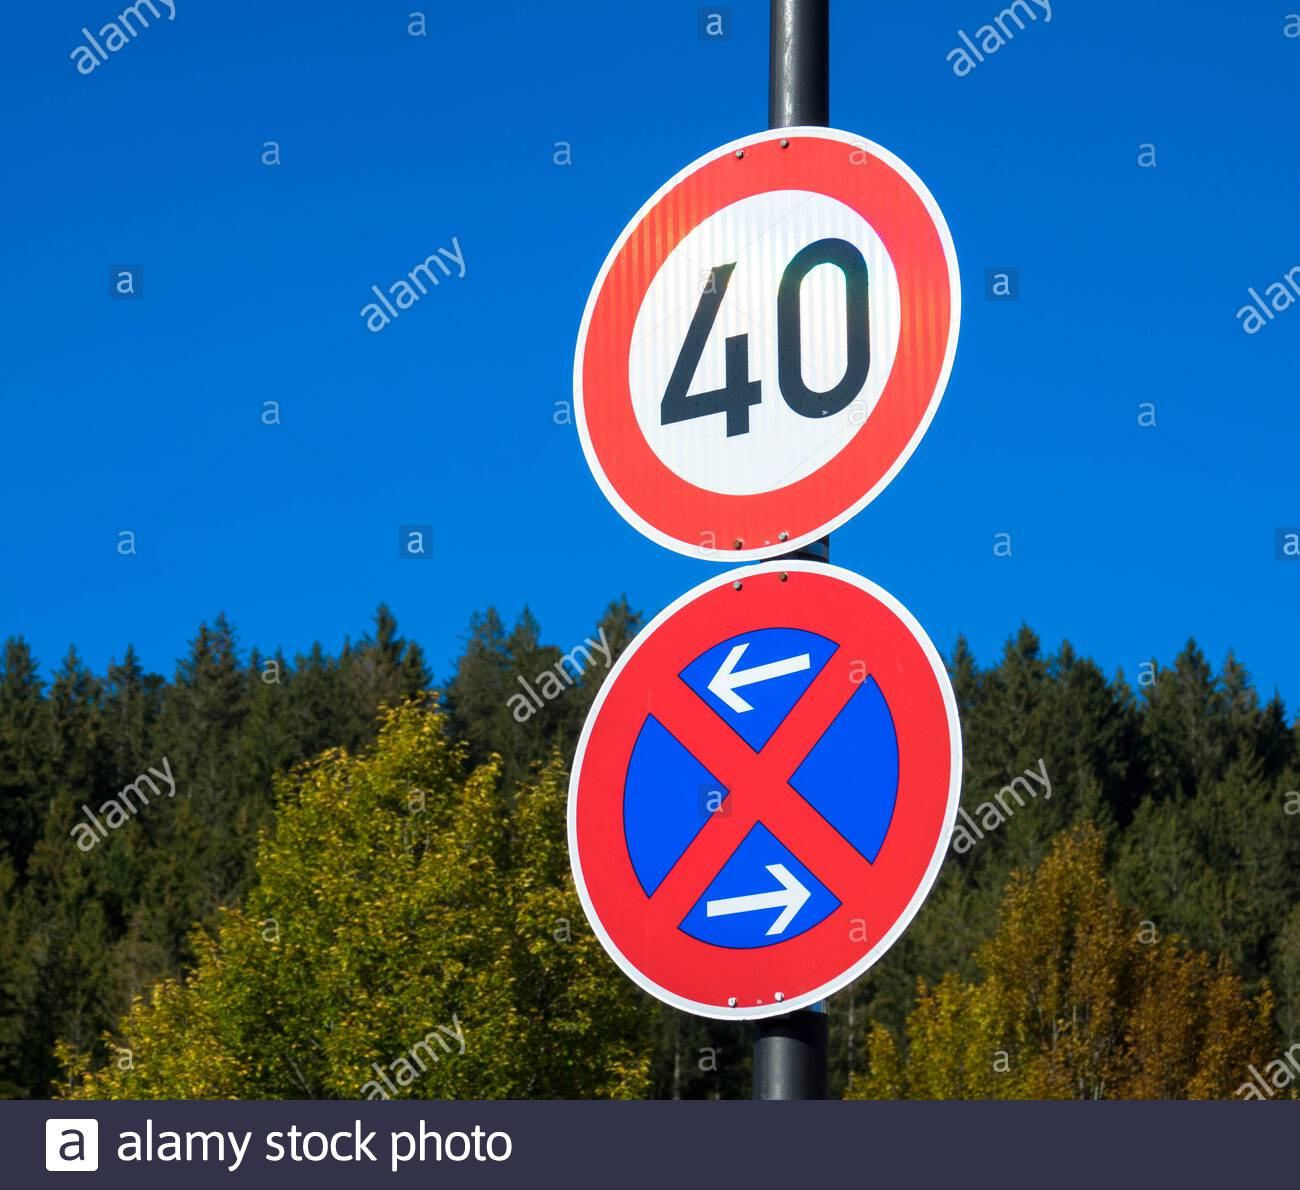speed_limit_40: (565, 127, 963, 567)
